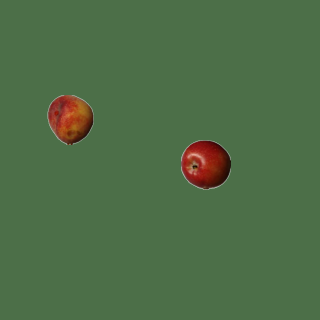Apple Braeburn: (180, 139, 230, 189)
Peach: (45, 94, 95, 144)
